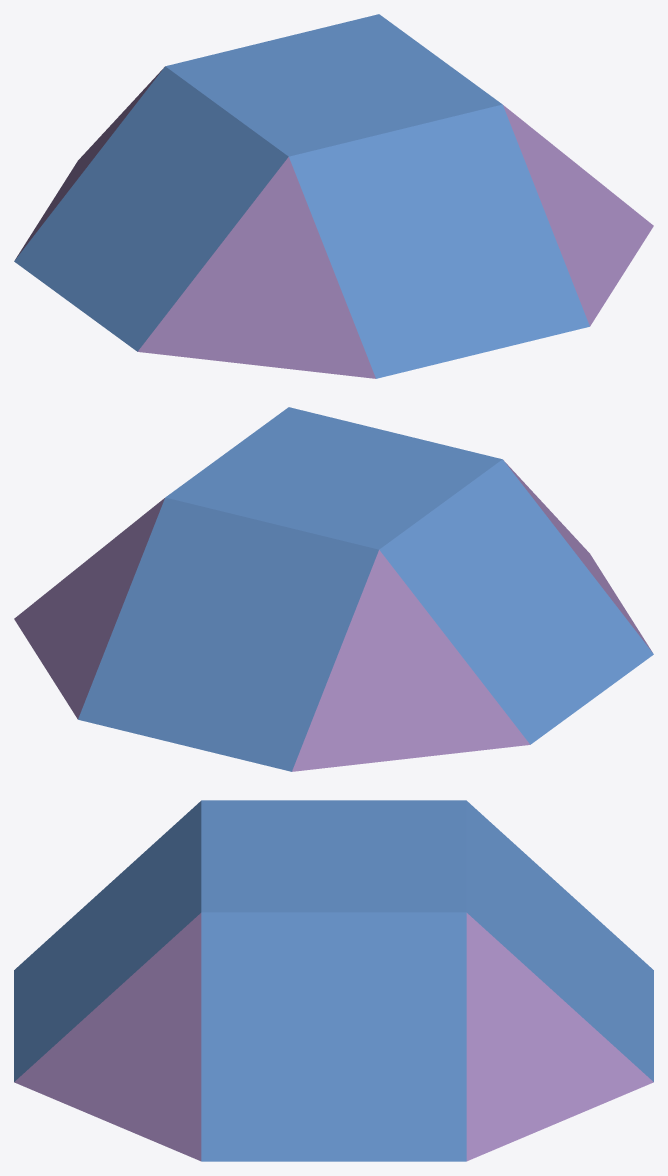
File: J4.CupulaCuadrada.gltf
The picture shows the model from 3 angles, top to bottom: view 1: azimuth 30°, elevation 25°; view 2: azimuth 150°, elevation 25°; view 3: azimuth 270°, elevation 25°; orthographic projection. The views are drawn at different scales.
Visible parts, largest first — view 1: J4.Cupulacuadrada; view 2: J4.Cupulacuadrada; view 3: J4.Cupulacuadrada.
Boxes of the visible parts, x1,y1,x2,y2 form: J4.Cupulacuadrada: (14,14,653,378); J4.Cupulacuadrada: (14,407,653,771); J4.Cupulacuadrada: (14,800,653,1161).
Bounding box in the file's own units: 18.48 × 5.41 × 18.48.
